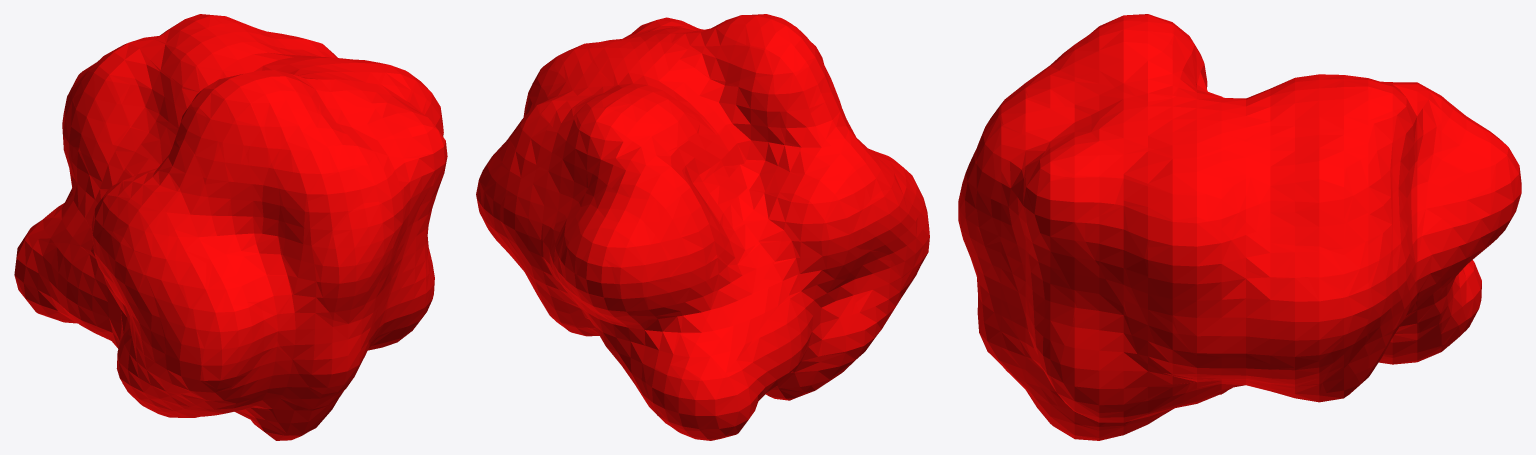
Rendered from dnaT_coarse.dae.
3 renders of one model, left to right at view 1: azimuth 30°, elevation 25°; view 2: azimuth 150°, elevation 25°; view 3: azimuth 270°, elevation 25°, orthographic. The views are drawn at different scales.
Parts seen in each view (by area): view 1: dnaT; view 2: dnaT; view 3: dnaT.
Boxes of the visible parts, box(x1,y1,x2,y2) form: dnaT: box(14, 14, 447, 440); dnaT: box(476, 14, 929, 440); dnaT: box(958, 14, 1521, 440).
Size of the model in its own units: 40.18 by 39.26 by 49.41.
